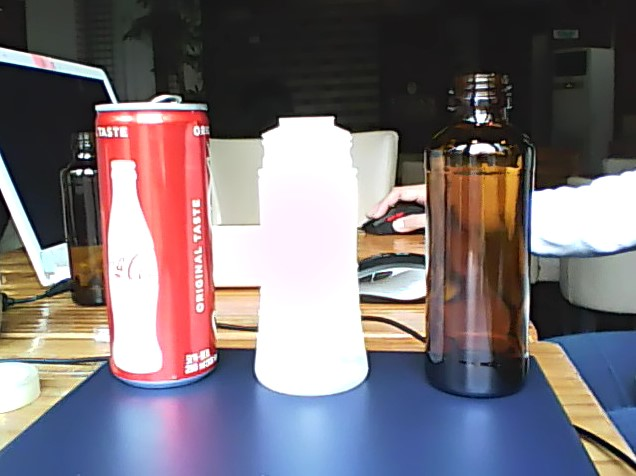Can: (88, 93, 223, 388)
Glass: (424, 70, 536, 400)
Plastic: (250, 114, 374, 400)
